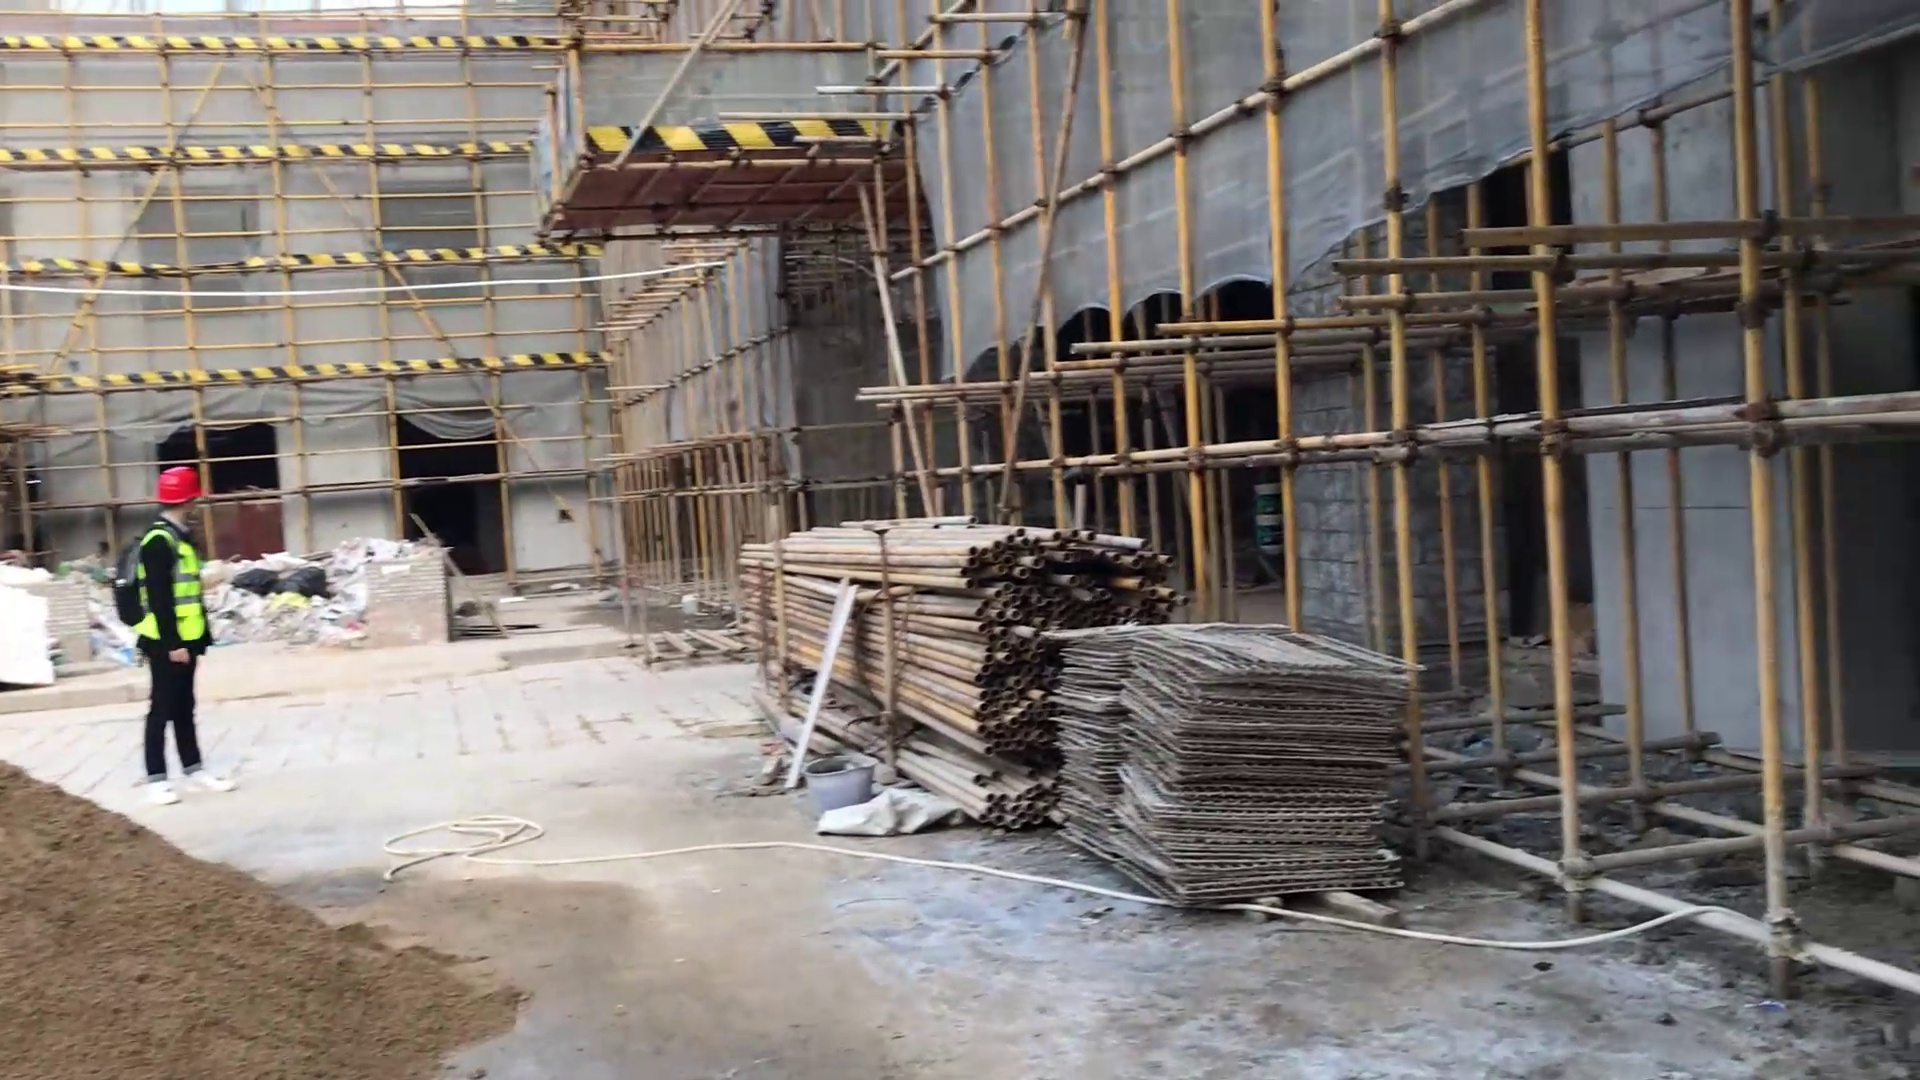helmet: (138, 457, 208, 517)
person: (108, 452, 241, 811)
vest: (128, 526, 223, 653)
